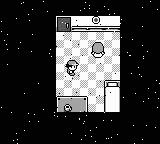main: (66, 61, 79, 75)
no-caminable: (0, 16, 159, 143), (0, 0, 160, 16), (72, 16, 120, 31), (104, 81, 120, 112), (57, 97, 88, 112)
npc: (91, 43, 105, 57)
puerta: (57, 17, 70, 31)
